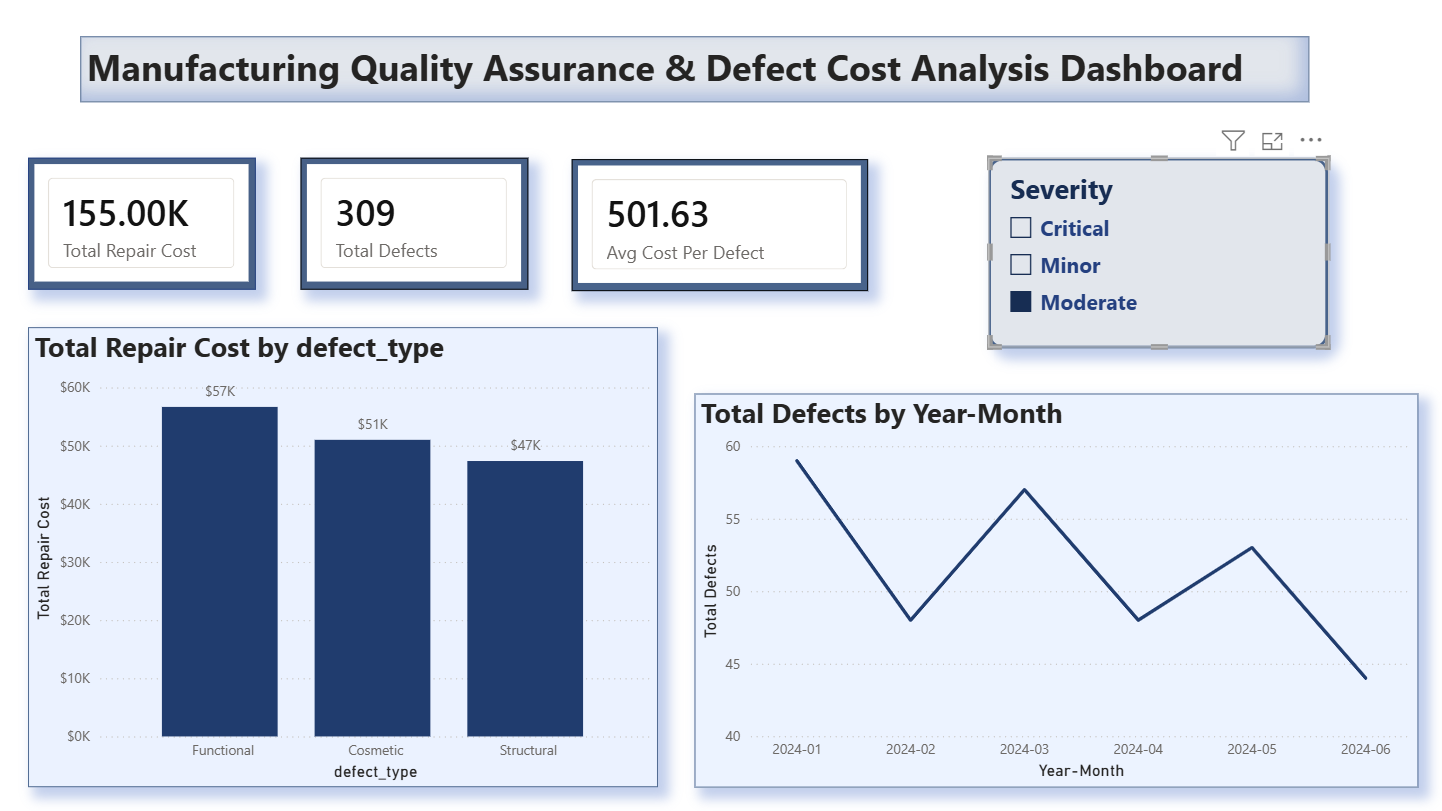

The page's visual inventory and layout, read from the dashboard file:
{"tool":"powerbi","page":{"name":"Page 1","canvas":[1280,720],"ordinal":0},"visuals":[{"type":"cardVisual","fields":{"Data":["cleaned_defects_data.Total Repair Cost"]},"box":[26.1,140,201.7,116.6],"z":0},{"type":"cardVisual","fields":{"Data":["cleaned_defects_data.Total Defects"]},"box":[266.9,140,201.7,116.6],"z":1000},{"type":"cardVisual","fields":{"Data":["cleaned_defects_data.Avg Cost Per Defect"]},"box":[507.7,141.3,262.1,116.6],"z":2000},{"type":"clusteredColumnChart","fields":{"Category":["cleaned_defects_data.defect_type"],"Y":["cleaned_defects_data.Total Repair Cost"]},"box":[26.2,290,557.5,407.5],"z":3000},{"type":"lineChart","fields":{"Category":["DimCalendar.Year-Month"],"Y":["cleaned_defects_data.Total Defects"]},"box":[616.1,348.5,640.8,348.5],"z":4000},{"type":"slicer","fields":{"Values":["cleaned_defects_data.severity"]},"box":[876.8,140,300.5,168.8],"z":5000},{"type":"textbox","box":[72,32,1088,58],"z":6000}]}

Visuals, with their boxes in screenshot pixels (x1, y1, x2, y2), scaled from the page's 1280x720 canvas onto the 1442x811 screenshot:
cardVisual - cleaned_defects_data.Total Repair Cost: 29 158 257 289
cardVisual - cleaned_defects_data.Total Defects: 301 158 528 289
cardVisual - cleaned_defects_data.Avg Cost Per Defect: 572 159 867 290
clusteredColumnChart - cleaned_defects_data.defect_type x cleaned_defects_data.Total Repair Cost: 30 327 658 786
lineChart - DimCalendar.Year-Month x cleaned_defects_data.Total Defects: 694 393 1416 785
slicer - cleaned_defects_data.severity: 988 158 1326 348
textbox: 81 36 1307 101
